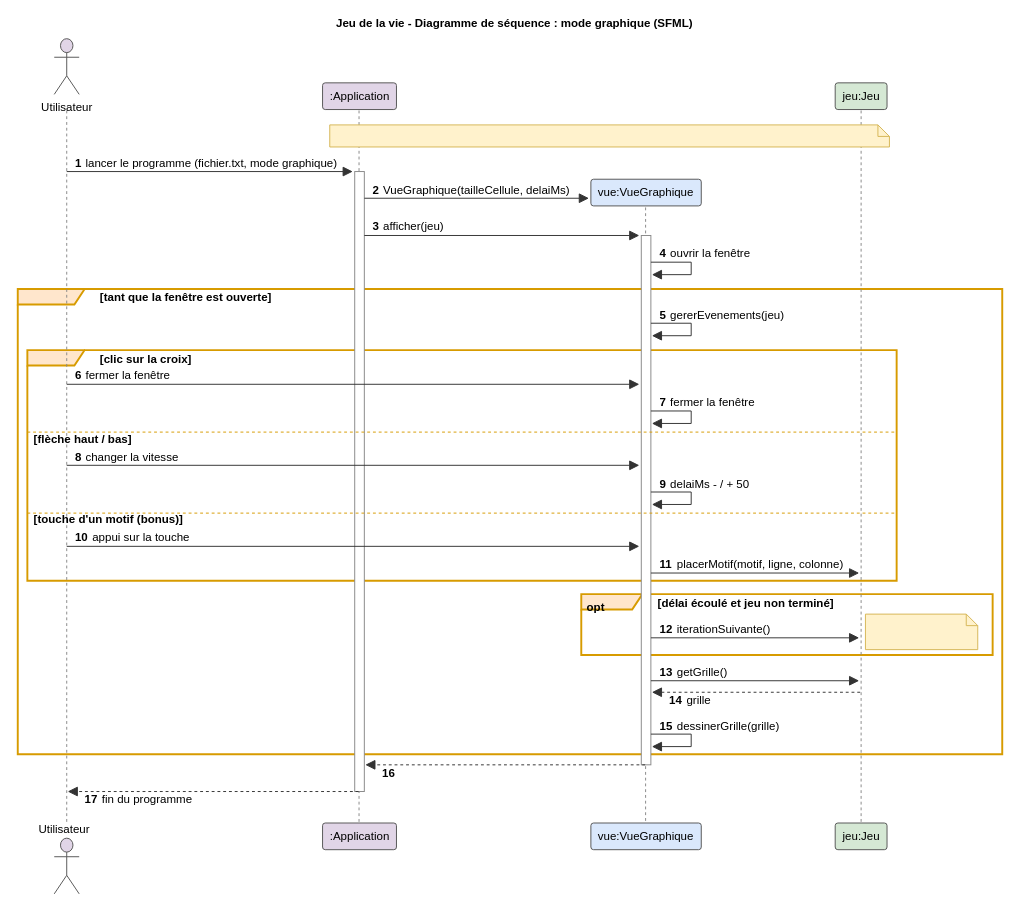
Some shapes in this 1020 by 911 pixel diagram are drawn without their labels. The box of each missing label's shape, as (x1, y1, x2, y2) in pixels:
alt: (26, 349, 897, 581)
La grille et le jeu sont créés comme en mode console.: (329, 124, 889, 147)
loop: (16, 288, 1003, 755)
même calcul que en mode console: (864, 613, 978, 650)
